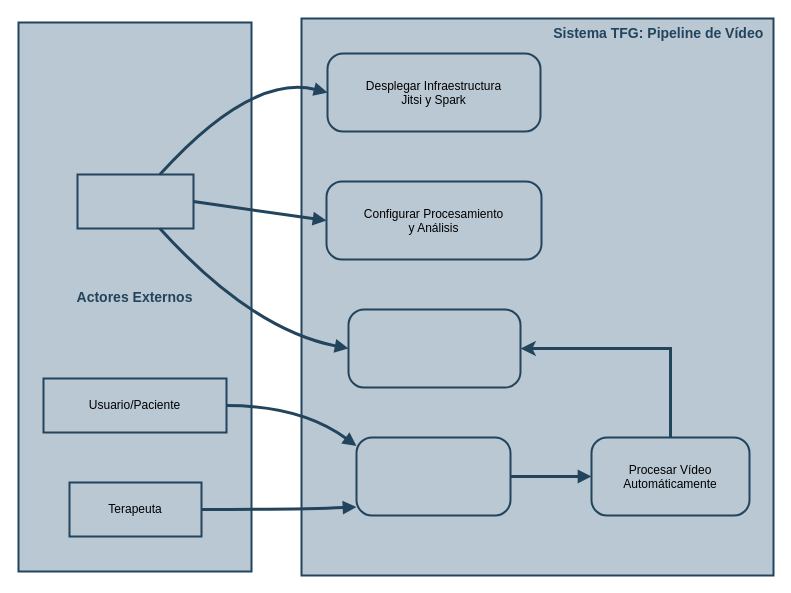
The diagram is 791 pixels wide and 593 high, and some of its shapes have lost their labels. Each missing label, with the centre of its shape:
Realizar y Grabar Videoconferencia: point (433, 476)
Técnico: point (135, 201)
Verificar Resultados y Vídeo Procesado: point (434, 348)
